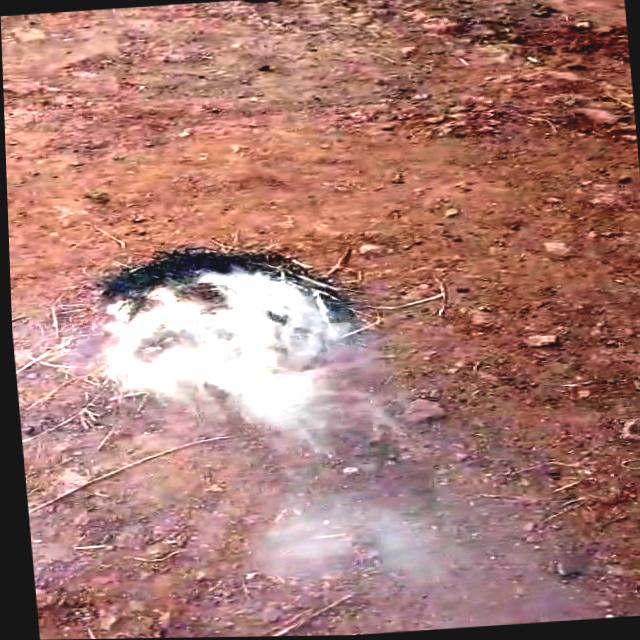no_helmet: (92, 252, 475, 615)
